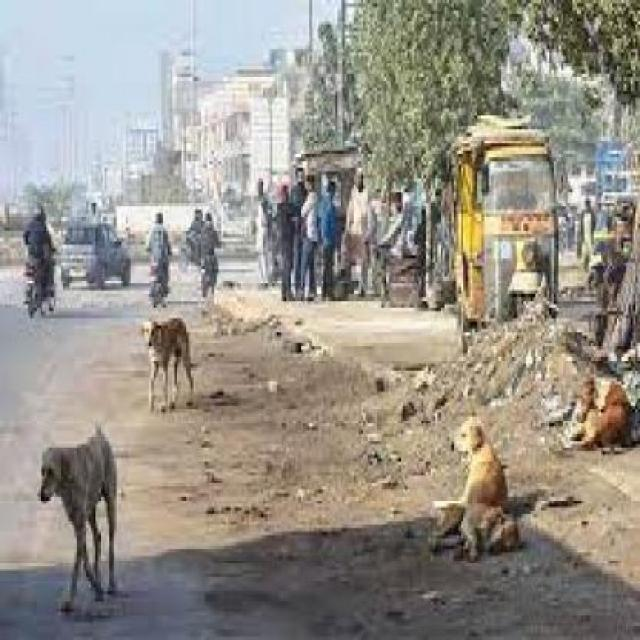dog: (38, 430, 131, 616), (436, 416, 510, 513), (139, 318, 194, 413), (569, 385, 638, 454), (431, 508, 520, 560)
